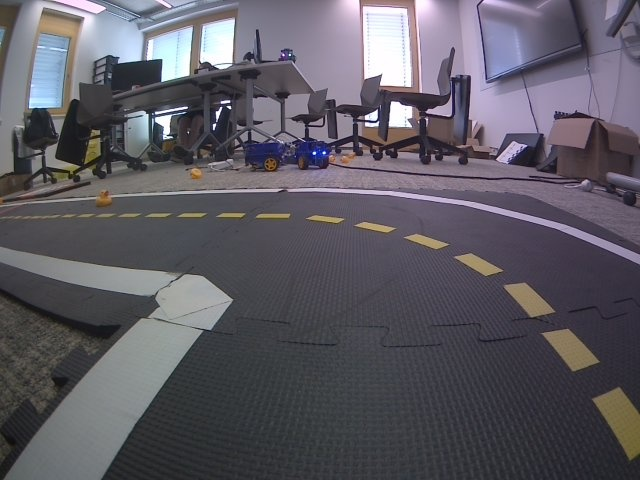Bot: (243, 144, 285, 171), (296, 142, 331, 170), (278, 48, 296, 61)
